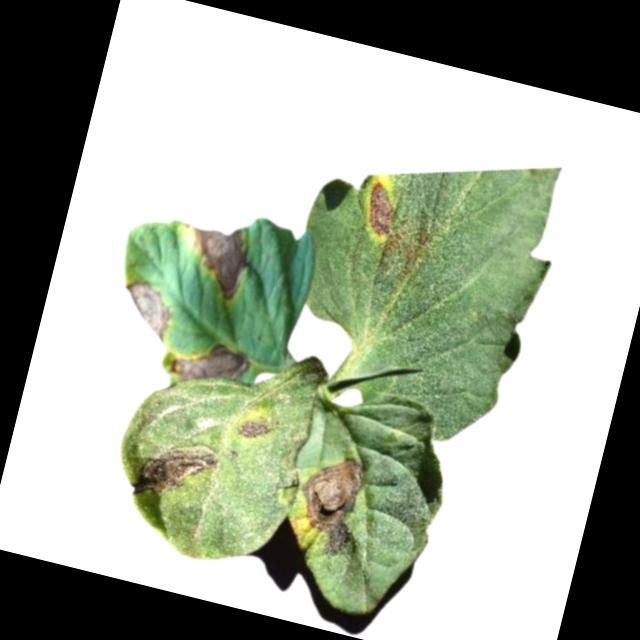Early_blight: (287, 444, 374, 559), (130, 429, 221, 510), (174, 213, 256, 301), (165, 328, 255, 394), (112, 274, 179, 343), (357, 176, 403, 242), (238, 409, 274, 445)
